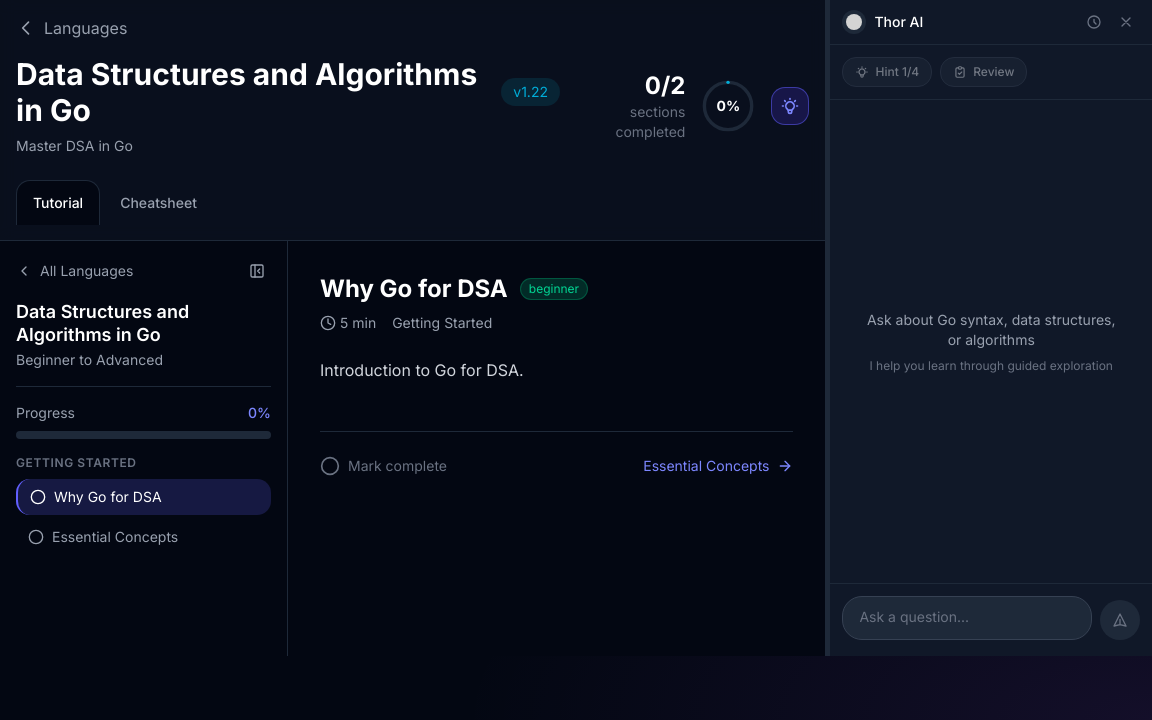
Scenario: LanguageGuideClient › Toggle Complete › toggles section completion on and off
This screenshot has width=1152, height=720.
expect the text "0/2" is shown: met, box [645,71,685,100]
# Click mark complete
Click the button "Mark complete" at (384, 466), box [320,456,447,476]
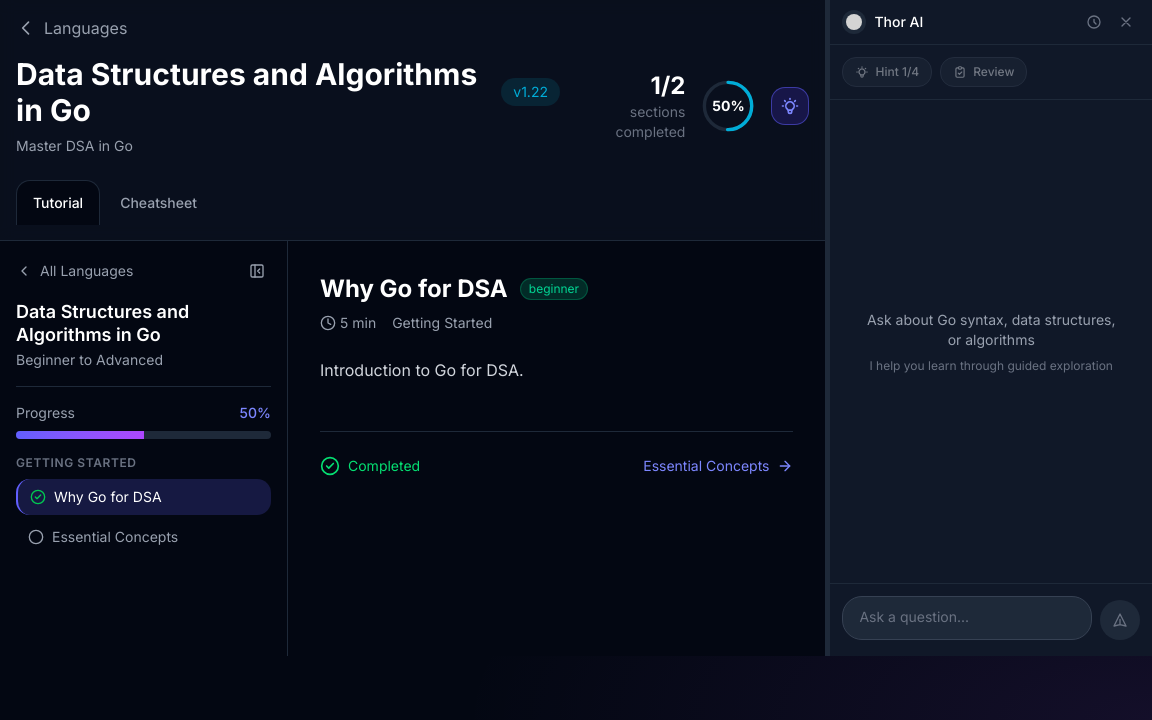
expect the text "Completed" is shown: met, box [348,456,420,476]
# Click again to toggle off
Click the button "Completed" at (370, 466), box [320,456,420,476]
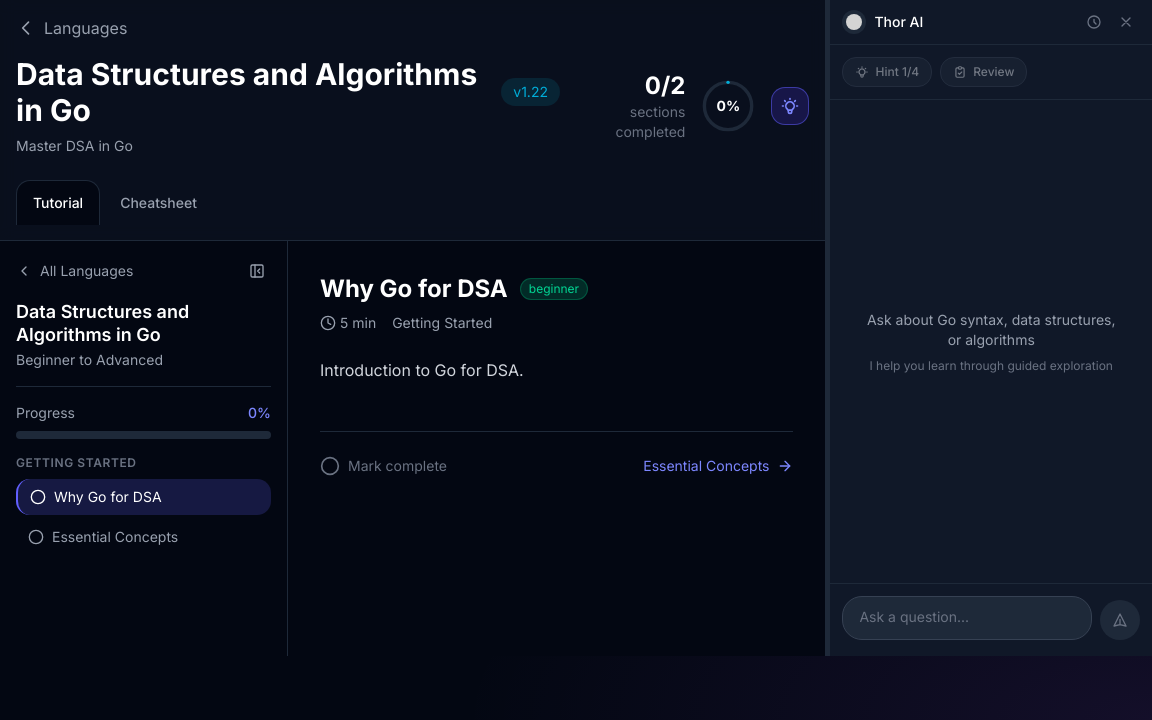
expect the text "Mark complete" is shown: met, box [348,456,447,476]
